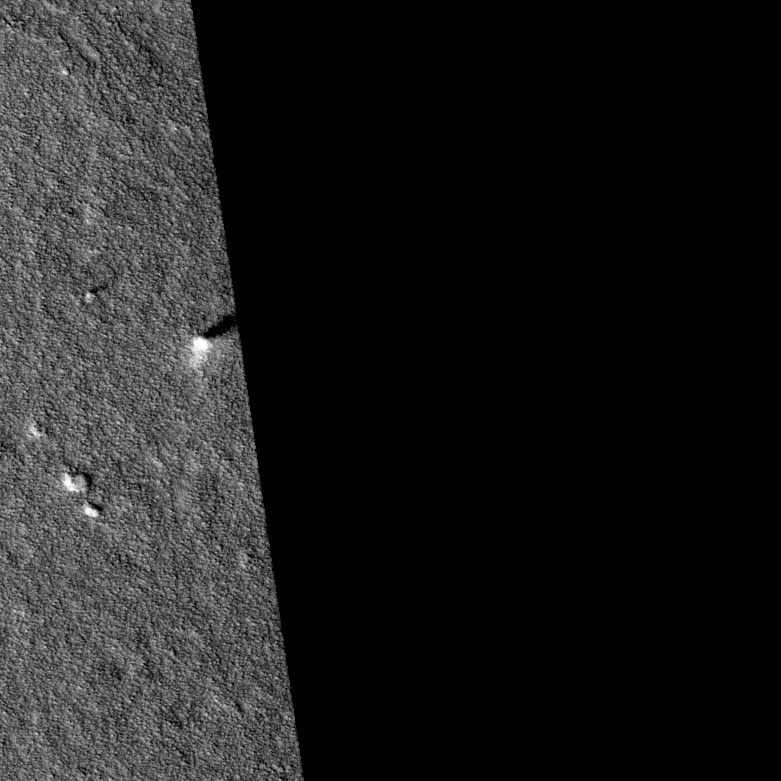dust_devil: (185, 311, 237, 370)
